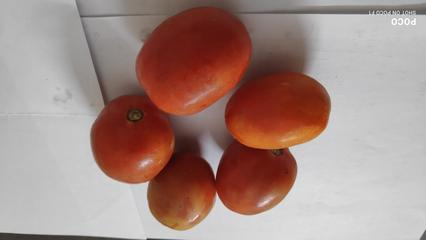tomato: (139, 9, 243, 107), (231, 73, 336, 153), (88, 94, 167, 172), (218, 136, 292, 216), (141, 150, 210, 220)
